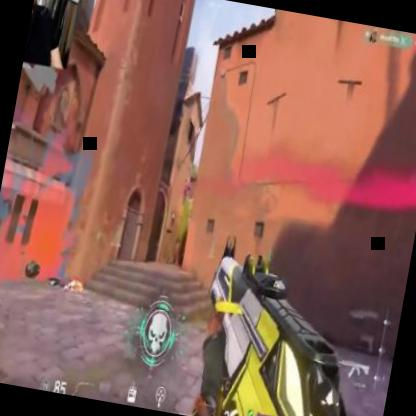enemy: (180, 172, 193, 205)
enemy_head: (186, 173, 191, 182)
